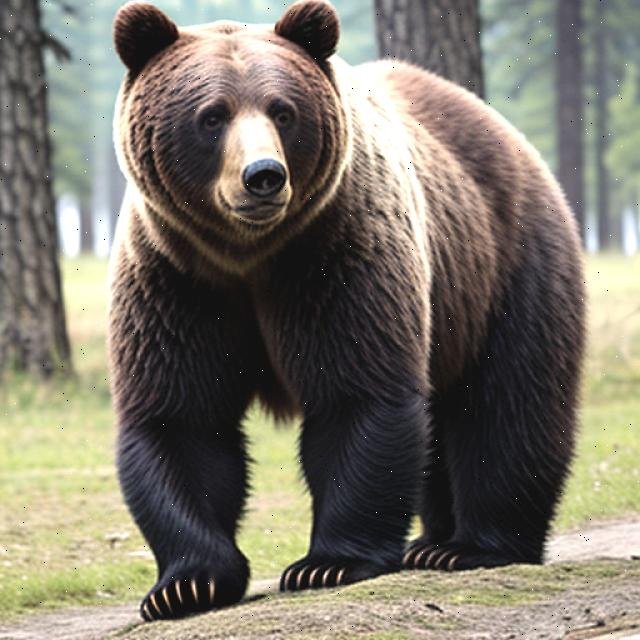bear: (71, 18, 541, 586)
